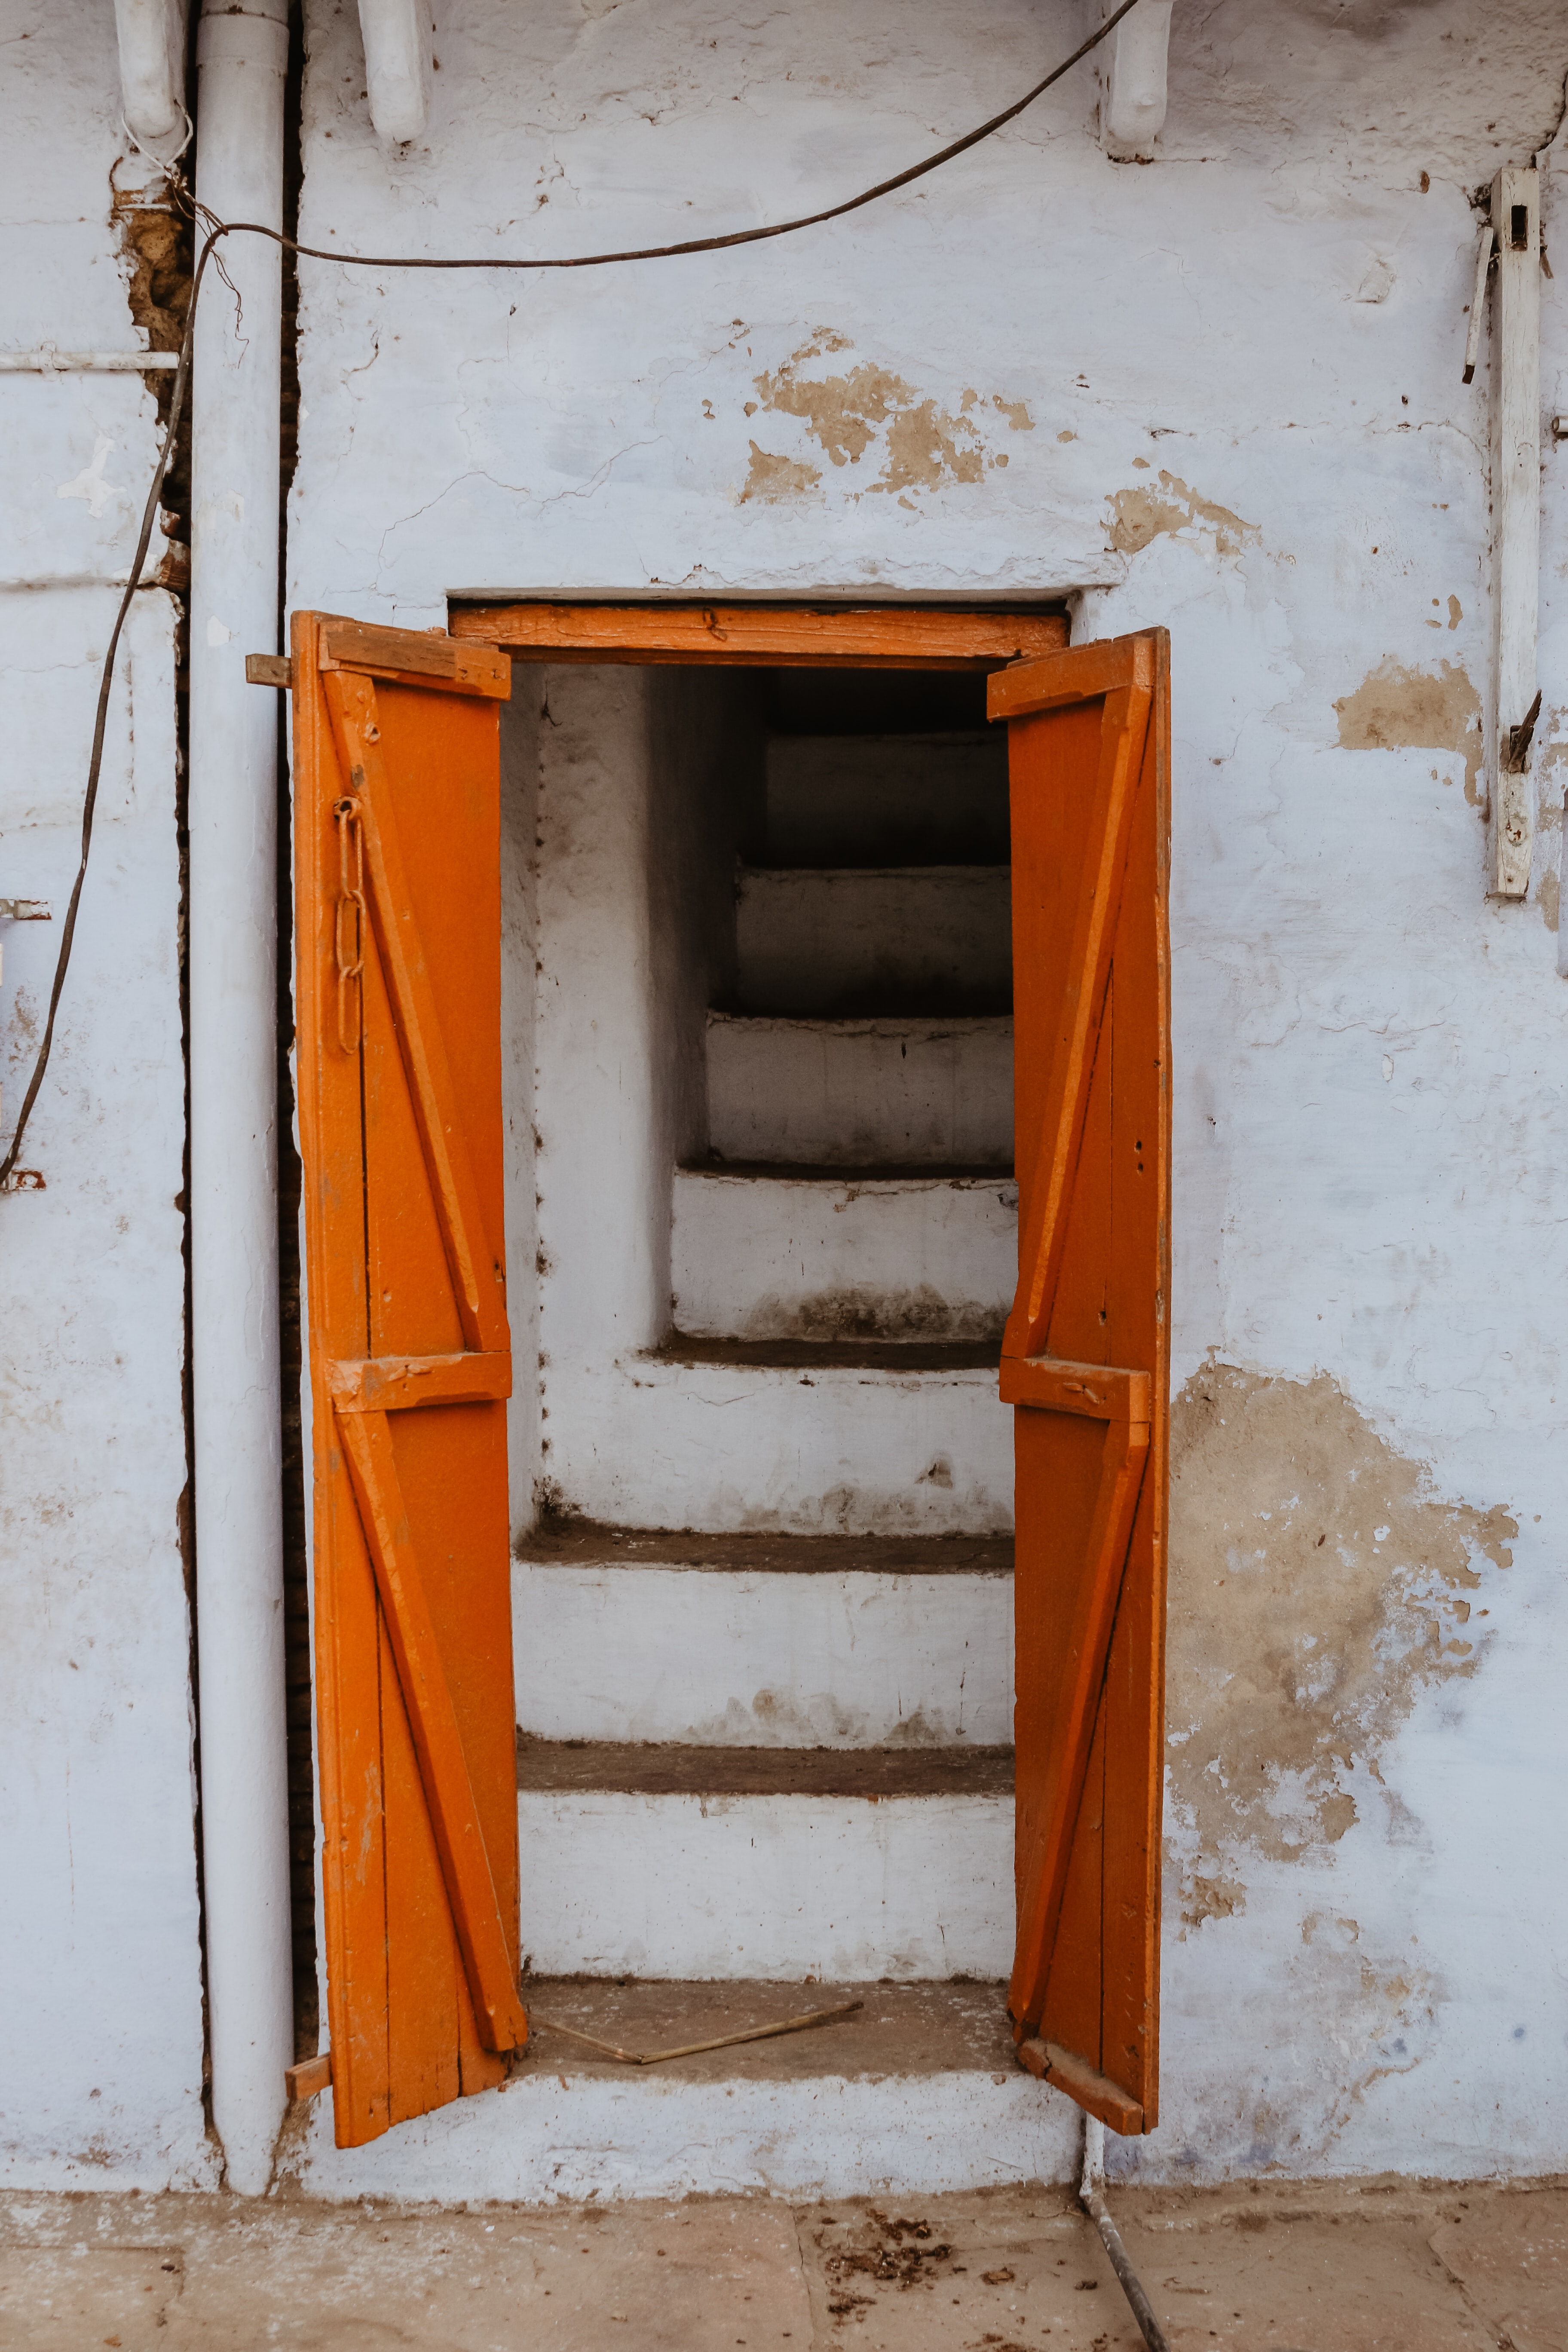upstairs: (565, 1162, 990, 2252)
